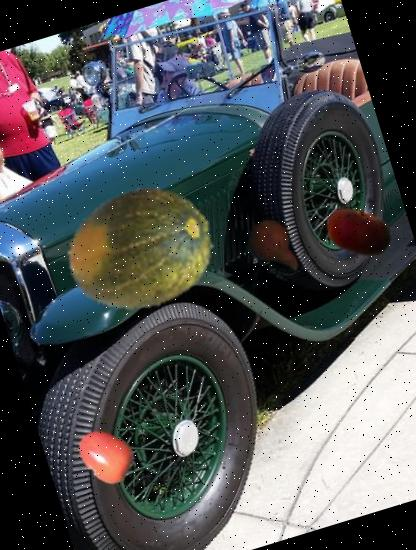Kaki: (69, 417, 144, 491)
Melon: (49, 150, 233, 334)
Nectarine: (318, 190, 402, 274)
Pear: (236, 207, 316, 287)
